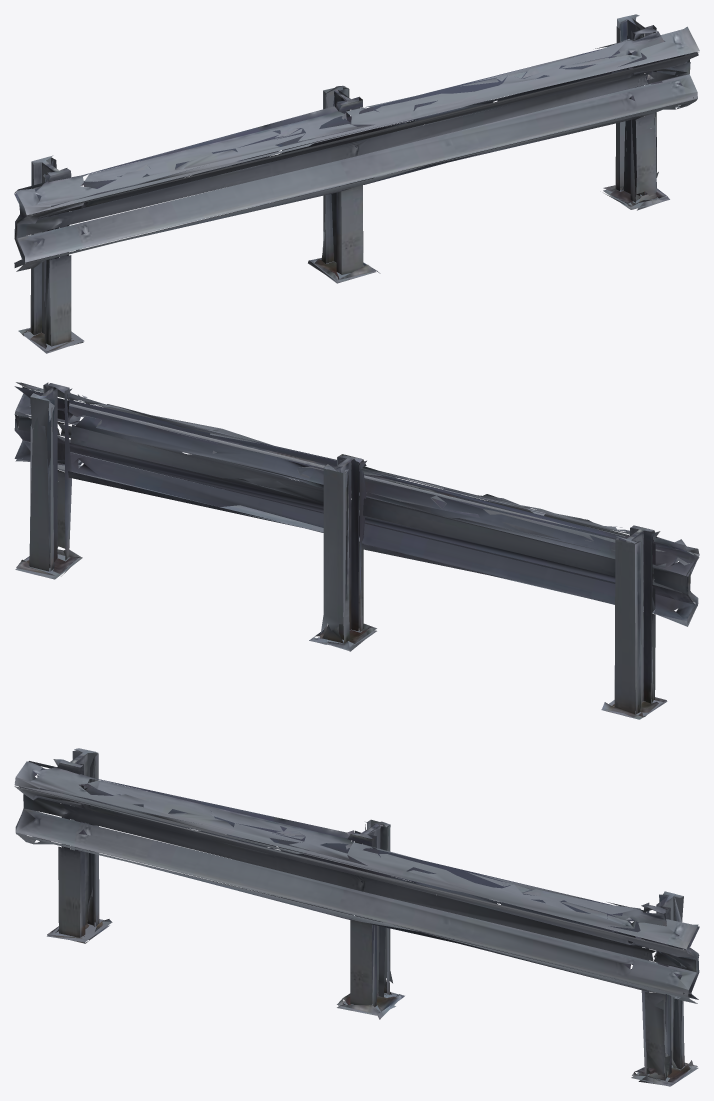
The model's file is game_ready_modular_metal_guardrail.glb.
The picture shows the model from 3 angles, top to bottom: view 1: azimuth 30°, elevation 25°; view 2: azimuth 150°, elevation 25°; view 3: azimuth 330°, elevation 25°; orthographic projection.
Parts seen in each view (by area): view 1: game_ready_modular_metal_guardrail.001; view 2: game_ready_modular_metal_guardrail.001; view 3: game_ready_modular_metal_guardrail.001.
Part boxes in pixels (x1,y1,x2,y2): game_ready_modular_metal_guardrail.001: (14, 14, 699, 353); game_ready_modular_metal_guardrail.001: (14, 382, 699, 719); game_ready_modular_metal_guardrail.001: (14, 748, 699, 1086).
Size of the model in its own units: 2.94 by 0.7395 by 0.2641.
1 material, 1 textured.
